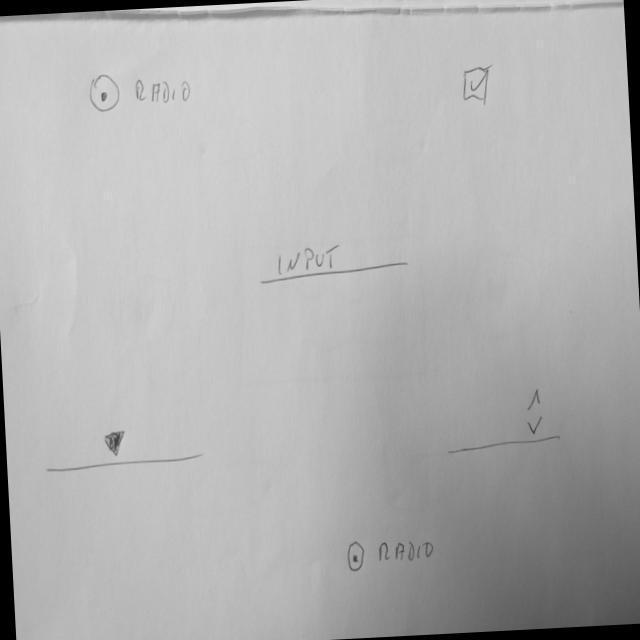checkbox: (461, 63, 495, 108)
input: (257, 239, 413, 290)
number-input: (441, 384, 566, 459)
radio: (346, 535, 440, 577), (89, 69, 126, 118)
